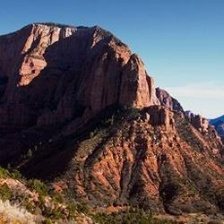neutral: (1, 5, 224, 212)
